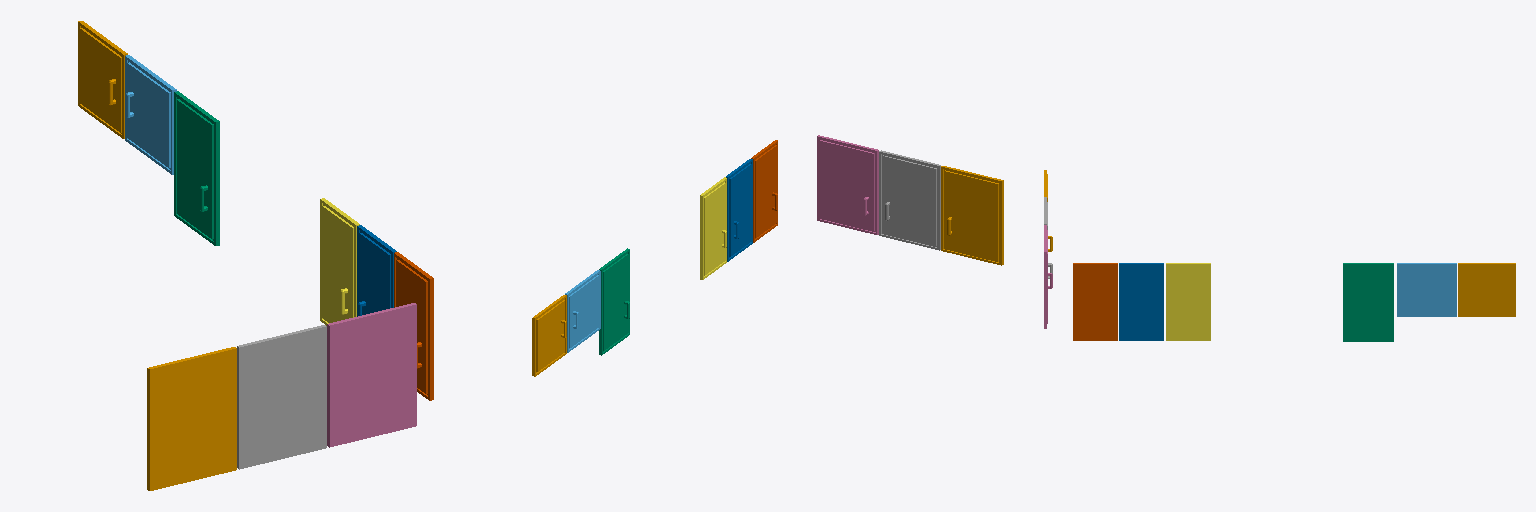
The robot description file, URDF, robot "Kitchen_dynamic":
<?xml version="1.0"?>
<!-- created with Phobos 1.0.1 "Capricious Choutengan" -->
  <robot name="Kitchen_dynamic">

    <link name="CabinetDoor_revolve">
      <inertial>
        <origin xyz="0.01108 -0.34558 0.36647" rpy="0 0 0"/>
        <mass value="0.5"/>
        <inertia ixx="0.05492" ixy="-1e-05" ixz="-0.00054" iyy="0.02418" iyz="0.00273" izz="0.02863"/>
      </inertial>
      <visual name="CabinetDoor">
        <origin xyz="0.01108 -0.34558 0.36647" rpy="0 0 0"/>
        <geometry>
          <mesh filename="package://Kitchen_dynamic/meshes/dae/Cabinets.003.dae" scale="1.07738 1.04823 1.07738"/>
        </geometry>
      </visual>
      <collision name="CabinetDoor.col">
        <origin xyz="0.01108 -0.34558 0.36647" rpy="0 0 0"/>
        <geometry>
          <mesh filename="package://Kitchen_dynamic/meshes/dae/Cabinets.002.dae" scale="1.0 1.0 1.0"/>
        </geometry>
      </collision>
    </link>

    <link name="CabinetDoor_revolve.001">
      <inertial>
        <origin xyz="0.01108 0.36156 0.36647" rpy="0 0 0"/>
        <mass value="0.5"/>
        <inertia ixx="0.05492" ixy="-1e-05" ixz="-0.00054" iyy="0.02847" iyz="0.00296" izz="0.02863"/>
      </inertial>
      <visual name="CabinetDoor.001">
        <origin xyz="0.01108 0.36156 0.36647" rpy="0 0 0"/>
        <geometry>
          <mesh filename="package://Kitchen_dynamic/meshes/dae/Cabinets.004.dae" scale="1.0 1.0 1.0"/>
        </geometry>
      </visual>
      <collision name="CabinetDoor.001.col">
        <origin xyz="0.01108 0.36156 0.36647" rpy="0 0 0"/>
        <geometry>
          <mesh filename="package://Kitchen_dynamic/meshes/dae/Cabinets.007.dae" scale="1.0 1.0 1.0"/>
        </geometry>
      </collision>
    </link>

    <link name="CabinetDoor_revolve.002">
      <inertial>
        <origin xyz="0.01108 -0.35997 0.36647" rpy="0 0 0"/>
        <mass value="0.5"/>
        <inertia ixx="0.04076" ixy="-1e-05" ixz="-0.0004" iyy="0.02003" iyz="0.00214" izz="0.02125"/>
      </inertial>
      <visual name="CabinetDoor.003">
        <origin xyz="0.01108 -0.35997 0.69432" rpy="0 0 0"/>
        <geometry>
          <mesh filename="package://Kitchen_dynamic/meshes/dae/Cabinets.001.dae" scale="1.0 1.0 1.0"/>
        </geometry>
      </visual>
      <collision name="CabinetDoor.003.col">
        <origin xyz="0.01108 -0.35997 0.69432" rpy="0 0 0"/>
        <geometry>
          <mesh filename="package://Kitchen_dynamic/meshes/dae/Cabinets.017.dae" scale="1.0 1.0 1.0"/>
        </geometry>
      </collision>
    </link>

    <link name="CabinetDoor_revolve.003">
      <inertial>
        <origin xyz="0.01108 -0.35997 0.36647" rpy="0 0 0"/>
        <mass value="0.5"/>
        <inertia ixx="0.04076" ixy="-1e-05" ixz="-0.0004" iyy="0.02003" iyz="0.00214" izz="0.02125"/>
      </inertial>
      <visual name="CabinetDoor.004">
        <origin xyz="0.01108 -0.35997 0.69432" rpy="0 0 0"/>
        <geometry>
          <mesh filename="package://Kitchen_dynamic/meshes/dae/Cabinets.011.dae" scale="1.0 1.0 1.0"/>
        </geometry>
      </visual>
      <collision name="CabinetDoor.004.col">
        <origin xyz="0.01108 -0.35997 0.69432" rpy="0 0 0"/>
        <geometry>
          <mesh filename="package://Kitchen_dynamic/meshes/dae/Cabinets.024.dae" scale="1.0 1.0 1.0"/>
        </geometry>
      </collision>
    </link>

    <link name="CabinetDoor_revolve.004">
      <inertial>
        <origin xyz="0.01108 0.35997 0.36647" rpy="0 0 0"/>
        <mass value="0.5"/>
        <inertia ixx="0.04076" ixy="-1e-05" ixz="-0.0004" iyy="0.02003" iyz="0.00214" izz="0.02125"/>
      </inertial>
      <visual name="CabinetDoor.005">
        <origin xyz="0.01108 0.35997 0.69432" rpy="0 0 0"/>
        <geometry>
          <mesh filename="package://Kitchen_dynamic/meshes/dae/Cabinets.014.dae" scale="1.0 1.0 1.0"/>
        </geometry>
      </visual>
      <collision name="CabinetDoor.004.001">
        <origin xyz="0.01108 0.35997 0.69432" rpy="0 0 0"/>
        <geometry>
          <mesh filename="package://Kitchen_dynamic/meshes/dae/Cabinets.013.dae" scale="1.0 1.0 1.0"/>
        </geometry>
      </collision>
    </link>

    <link name="CabinetDoor_revolve.005">
      <inertial>
        <origin xyz="0.01108 -0.35997 0.36647" rpy="0 0 0"/>
        <mass value="0.5"/>
        <inertia ixx="0.04076" ixy="0" ixz="-0.0004" iyy="0.02003" iyz="0.00214" izz="0.02125"/>
      </inertial>
      <visual name="CabinetDoor.006">
        <origin xyz="0.01108 -0.35997 0.69432" rpy="0 0 0"/>
        <geometry>
          <mesh filename="package://Kitchen_dynamic/meshes/dae/Cabinets.015.dae" scale="1.0 1.0 1.0"/>
        </geometry>
      </visual>
      <collision name="CabinetDoor.006.col">
        <origin xyz="0.01108 -0.35997 0.69432" rpy="0 0 0"/>
        <geometry>
          <mesh filename="package://Kitchen_dynamic/meshes/dae/Cabinets.025.dae" scale="1.0 1.0 1.0"/>
        </geometry>
      </collision>
    </link>

    <link name="CabinetDoor_revolve.006">
      <inertial>
        <origin xyz="0.01108 -0.35997 0.36647" rpy="0 0 0"/>
        <mass value="0.5"/>
        <inertia ixx="0.04076" ixy="0" ixz="-0.0004" iyy="0.02003" iyz="0.00214" izz="0.02125"/>
      </inertial>
      <visual name="CabinetDoor.007">
        <origin xyz="0.01108 -0.35997 0.69432" rpy="0 0 0"/>
        <geometry>
          <mesh filename="package://Kitchen_dynamic/meshes/dae/Cabinets.018.dae" scale="1.0 1.0 1.0"/>
        </geometry>
      </visual>
      <collision name="CabinetDoor.007.col">
        <origin xyz="0.01108 -0.35997 0.69432" rpy="0 0 0"/>
        <geometry>
          <mesh filename="package://Kitchen_dynamic/meshes/dae/Cabinets.026.dae" scale="1.0 1.0 1.0"/>
        </geometry>
      </collision>
    </link>

    <link name="CabinetDoor_revolve.007">
      <inertial>
        <origin xyz="0.35997 -0.01108 0.36647" rpy="0 0 0"/>
        <mass value="0.5"/>
        <inertia ixx="0.04076" ixy="0" ixz="-0.0004" iyy="0.02003" iyz="0.00214" izz="0.02125"/>
      </inertial>
      <visual name="CabinetDoor.008">
        <origin xyz="0.35997 -0.01108 0.69432" rpy="0 0 0"/>
        <geometry>
          <mesh filename="package://Kitchen_dynamic/meshes/dae/Cabinets.019.dae" scale="1.0 1.0 1.0"/>
        </geometry>
      </visual>
      <collision name="CabinetDoor.008.000">
        <origin xyz="0.35997 -0.01108 0.69432" rpy="0 0 0"/>
        <geometry>
          <mesh filename="package://Kitchen_dynamic/meshes/dae/Cabinets.022.dae" scale="1.0 1.0 1.0"/>
        </geometry>
      </collision>
    </link>

    <link name="CabinetDoor_revolve.008">
      <inertial>
        <origin xyz="0.35997 -0.01108 0.36647" rpy="0 0 0"/>
        <mass value="0.5"/>
        <inertia ixx="0.04076" ixy="0" ixz="-0.0004" iyy="0.02003" iyz="0.00214" izz="0.02125"/>
      </inertial>
      <visual name="CabinetDoor.009">
        <origin xyz="0.35997 -0.01108 0.69432" rpy="0 0 0"/>
        <geometry>
          <mesh filename="package://Kitchen_dynamic/meshes/dae/Cabinets.020.dae" scale="1.0 1.0 1.0"/>
        </geometry>
      </visual>
      <collision name="CabinetDoor.009.000">
        <origin xyz="0.35997 -0.01108 0.69432" rpy="0 0 0"/>
        <geometry>
          <mesh filename="package://Kitchen_dynamic/meshes/dae/Cabinets.023.dae" scale="1.0 1.0 1.0"/>
        </geometry>
      </collision>
    </link>

    <link name="root_dynamic">
      <inertial>
        <origin xyz="0 0 0" rpy="0 0 0"/>
        <mass value="0.001"/>
        <inertia ixx="0.001" ixy="0" ixz="0" iyy="0.001" iyz="0" izz="0.001"/>
      </inertial>
    </link>

    <joint name="CabinetDoor_revolve" type="revolute">
      <origin xyz="0.87159 3.77577 2.10183" rpy="0 0 0"/>
      <parent link="root_dynamic"/>
      <child link="CabinetDoor_revolve"/>
      <axis xyz="0 0 1.0"/>
      <limit lower="-3.0" upper="0" effort="0" velocity="0"/>
    </joint>

    <joint name="CabinetDoor_revolve.001" type="revolute">
      <origin xyz="0.87159 2.31963 2.10183" rpy="0 0 0"/>
      <parent link="root_dynamic"/>
      <child link="CabinetDoor_revolve.001"/>
      <axis xyz="0 0 1.0"/>
      <limit lower="-3.0" upper="0" effort="0" velocity="0"/>
    </joint>

    <joint name="CabinetDoor_revolve.002" type="revolute">
      <origin xyz="0.87159 2.26898 1.77074" rpy="0 0 0"/>
      <parent link="root_dynamic"/>
      <child link="CabinetDoor_revolve.002"/>
      <axis xyz="0 0 1.0"/>
      <limit lower="-3.0" upper="0" effort="0" velocity="0"/>
    </joint>

    <joint name="CabinetDoor_revolve.003" type="revolute">
      <origin xyz="0.87159 -0.01653 1.77074" rpy="0 0 0"/>
      <parent link="root_dynamic"/>
      <child link="CabinetDoor_revolve.003"/>
      <axis xyz="0 0 1.0"/>
      <limit lower="-3.0" upper="0" effort="0" velocity="0"/>
    </joint>

    <joint name="CabinetDoor_revolve.004" type="revolute">
      <origin xyz="0.87159 -1.13262 1.77074" rpy="0 0 0"/>
      <parent link="root_dynamic"/>
      <child link="CabinetDoor_revolve.004"/>
      <axis xyz="0 0 1.0"/>
      <limit lower="-3.0" upper="0" effort="0" velocity="0"/>
    </joint>

    <joint name="CabinetDoor_revolve.005" type="revolute">
      <origin xyz="0.87159 -1.16978 1.77074" rpy="0 0 0"/>
      <parent link="root_dynamic"/>
      <child link="CabinetDoor_revolve.005"/>
      <axis xyz="0 0 1.0"/>
      <limit lower="-3.0" upper="0" effort="0" velocity="0"/>
    </joint>

    <joint name="CabinetDoor_revolve.006" type="revolute">
      <origin xyz="0.51584 -2.06474 1.77074" rpy="0 0 -1.5708"/>
      <parent link="root_dynamic"/>
      <child link="CabinetDoor_revolve.006"/>
      <axis xyz="0 0 1.0"/>
      <limit lower="-3.0" upper="0" effort="0" velocity="0"/>
    </joint>

    <joint name="CabinetDoor_revolve.007" type="revolute">
      <origin xyz="-1.07047 -2.06474 1.77074" rpy="0 0 0"/>
      <parent link="root_dynamic"/>
      <child link="CabinetDoor_revolve.007"/>
      <axis xyz="0 0 1.0"/>
      <limit lower="-3.0" upper="0" effort="0" velocity="0"/>
    </joint>

    <joint name="CabinetDoor_revolve.008" type="revolute">
      <origin xyz="-1.88167 -2.06474 1.77074" rpy="0 0 0"/>
      <parent link="root_dynamic"/>
      <child link="CabinetDoor_revolve.008"/>
      <axis xyz="0 0 1.0"/>
      <limit lower="-3.0" upper="0" effort="0" velocity="0"/>
    </joint>

  </robot>

--- Render facts (derived) ---
The picture shows the robot from 3 angles, left to right: view 1: azimuth 30°, elevation 25°; view 2: azimuth 150°, elevation 25°; view 3: azimuth 270°, elevation 25°; orthographic projection.
Model Kitchen_dynamic with 10 links and 9 joints (9 revolute), rooted at root_dynamic, posed every joint at zero.
Visible links, largest first — view 1: CabinetDoor_revolve.006, CabinetDoor_revolve.007, CabinetDoor_revolve.008, CabinetDoor_revolve.002, CabinetDoor_revolve.001, CabinetDoor_revolve, CabinetDoor_revolve.003, CabinetDoor_revolve.005, CabinetDoor_revolve.004; view 2: CabinetDoor_revolve.008, CabinetDoor_revolve.006, CabinetDoor_revolve.007, CabinetDoor_revolve.002, CabinetDoor_revolve.003, CabinetDoor_revolve.004, CabinetDoor_revolve.005, CabinetDoor_revolve, CabinetDoor_revolve.001; view 3: CabinetDoor_revolve.002, CabinetDoor_revolve.003, CabinetDoor_revolve.004, CabinetDoor_revolve.005, CabinetDoor_revolve.001, CabinetDoor_revolve.
Boxes of the visible links, x1,y1,x2,y2 form: CabinetDoor_revolve.006: (327,303,416,447); CabinetDoor_revolve.007: (237,325,326,469); CabinetDoor_revolve.008: (147,347,236,490); CabinetDoor_revolve.002: (174,91,219,245); CabinetDoor_revolve.001: (125,55,176,174); CabinetDoor_revolve: (78,21,127,138); CabinetDoor_revolve.003: (320,198,359,325); CabinetDoor_revolve.005: (394,252,433,400); CabinetDoor_revolve.004: (357,225,396,316); CabinetDoor_revolve.008: (941,166,1003,265); CabinetDoor_revolve.006: (817,135,878,234); CabinetDoor_revolve.007: (879,150,940,250); CabinetDoor_revolve.002: (599,248,629,355); CabinetDoor_revolve.003: (700,177,726,279); CabinetDoor_revolve.004: (726,159,752,261); CabinetDoor_revolve.005: (751,140,777,242); CabinetDoor_revolve: (532,295,566,376); CabinetDoor_revolve.001: (565,270,600,352); CabinetDoor_revolve.002: (1343,263,1393,341); CabinetDoor_revolve.003: (1166,263,1210,340); CabinetDoor_revolve.004: (1119,263,1163,340); CabinetDoor_revolve.005: (1073,263,1117,340); CabinetDoor_revolve.001: (1397,263,1456,316); CabinetDoor_revolve: (1458,263,1515,316).
Size in the robot's own frame: 2.78 by 5.86 by 1.08 metres.
Meshes: 9 distinct files referenced, 9 mesh visuals loaded (9 Collada DAE).